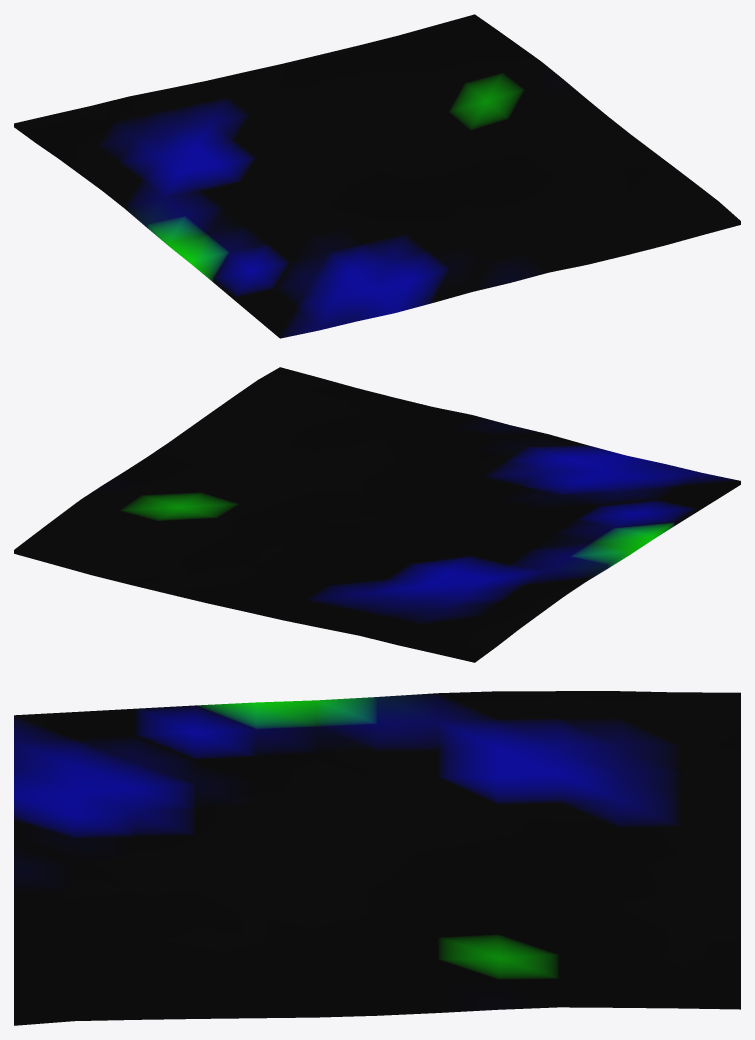
File: coast_6_5.glb
3 views of the same model, one above another, from view 1: azimuth 30°, elevation 25°; view 2: azimuth 150°, elevation 25°; view 3: azimuth 270°, elevation 25° (orthographic). The views are drawn at different scales.
Visible parts, largest first — view 1: terrain; view 2: terrain; view 3: terrain.
Boxes of the visible parts, <box> form: terrain: <box>14,14,740,338</box>; terrain: <box>14,367,740,662</box>; terrain: <box>14,691,740,1025</box>.
Bounding box in the file's own units: 192 × 9.56 × 192.
